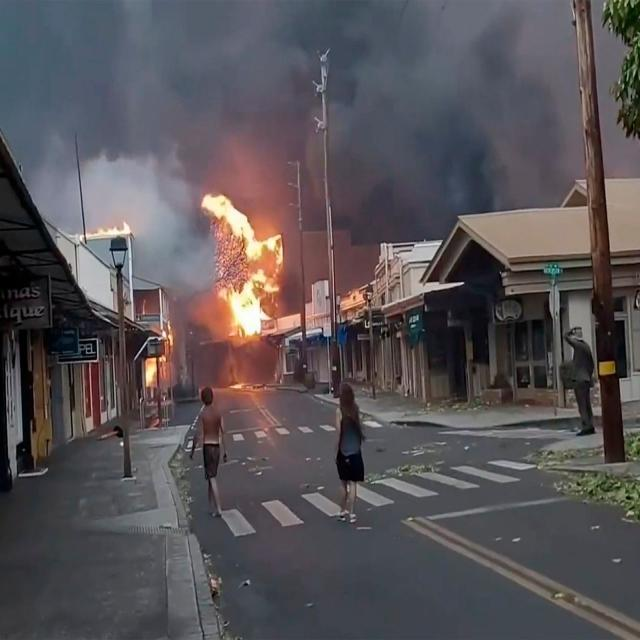Fire: (202, 193, 283, 337), (144, 332, 174, 388), (84, 220, 132, 238)
Smoke: (35, 0, 581, 289)
